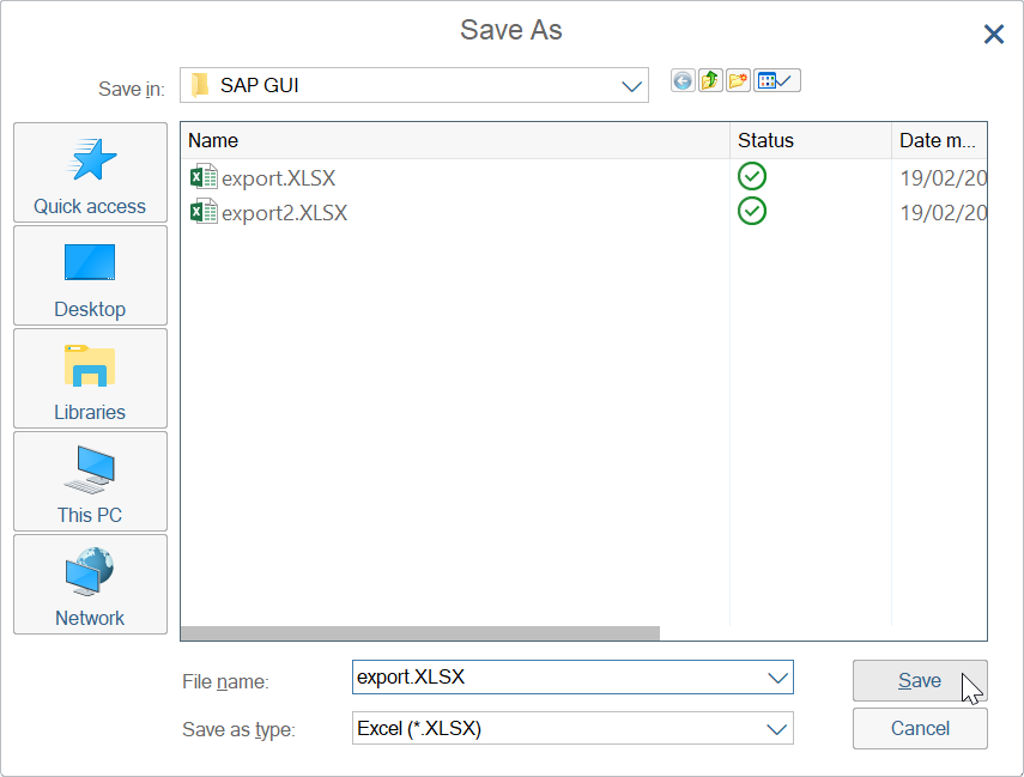button: (12, 223, 170, 327), (12, 326, 170, 430), (11, 533, 169, 636), (12, 121, 169, 224), (11, 430, 168, 532), (179, 626, 661, 642), (850, 703, 990, 753), (850, 657, 989, 705), (753, 66, 803, 95), (618, 72, 648, 100), (698, 65, 726, 94), (762, 715, 792, 741), (669, 66, 697, 93), (762, 666, 793, 690), (981, 20, 1007, 48), (727, 66, 752, 94)
common: (179, 717, 298, 742), (181, 669, 272, 693), (93, 75, 168, 102)
container: (1, 1, 1024, 777), (178, 119, 990, 642), (8, 117, 174, 640), (90, 61, 808, 107), (178, 656, 799, 699), (176, 707, 798, 749), (848, 653, 990, 751), (178, 624, 989, 641)
header: (458, 14, 567, 45)
image: (187, 69, 216, 100), (960, 671, 984, 707)
table: (180, 120, 990, 232)
table-cell: (178, 120, 732, 160), (180, 194, 732, 230), (179, 159, 732, 193), (732, 120, 894, 161), (733, 193, 892, 230), (732, 160, 893, 193), (893, 120, 988, 161), (892, 193, 988, 230), (894, 159, 989, 192)
table-row: (179, 121, 989, 161), (181, 193, 989, 230), (179, 159, 990, 193)
text-input: (177, 64, 652, 105), (351, 658, 796, 696), (350, 709, 796, 746)
